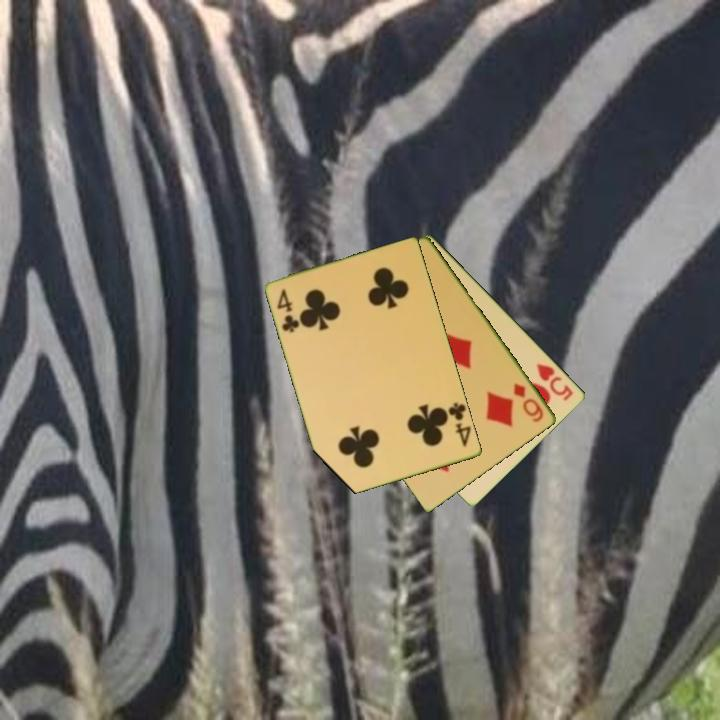4c: (445, 399, 474, 450), (274, 285, 302, 336)
5h: (533, 360, 577, 404)
6d: (510, 380, 547, 425)
